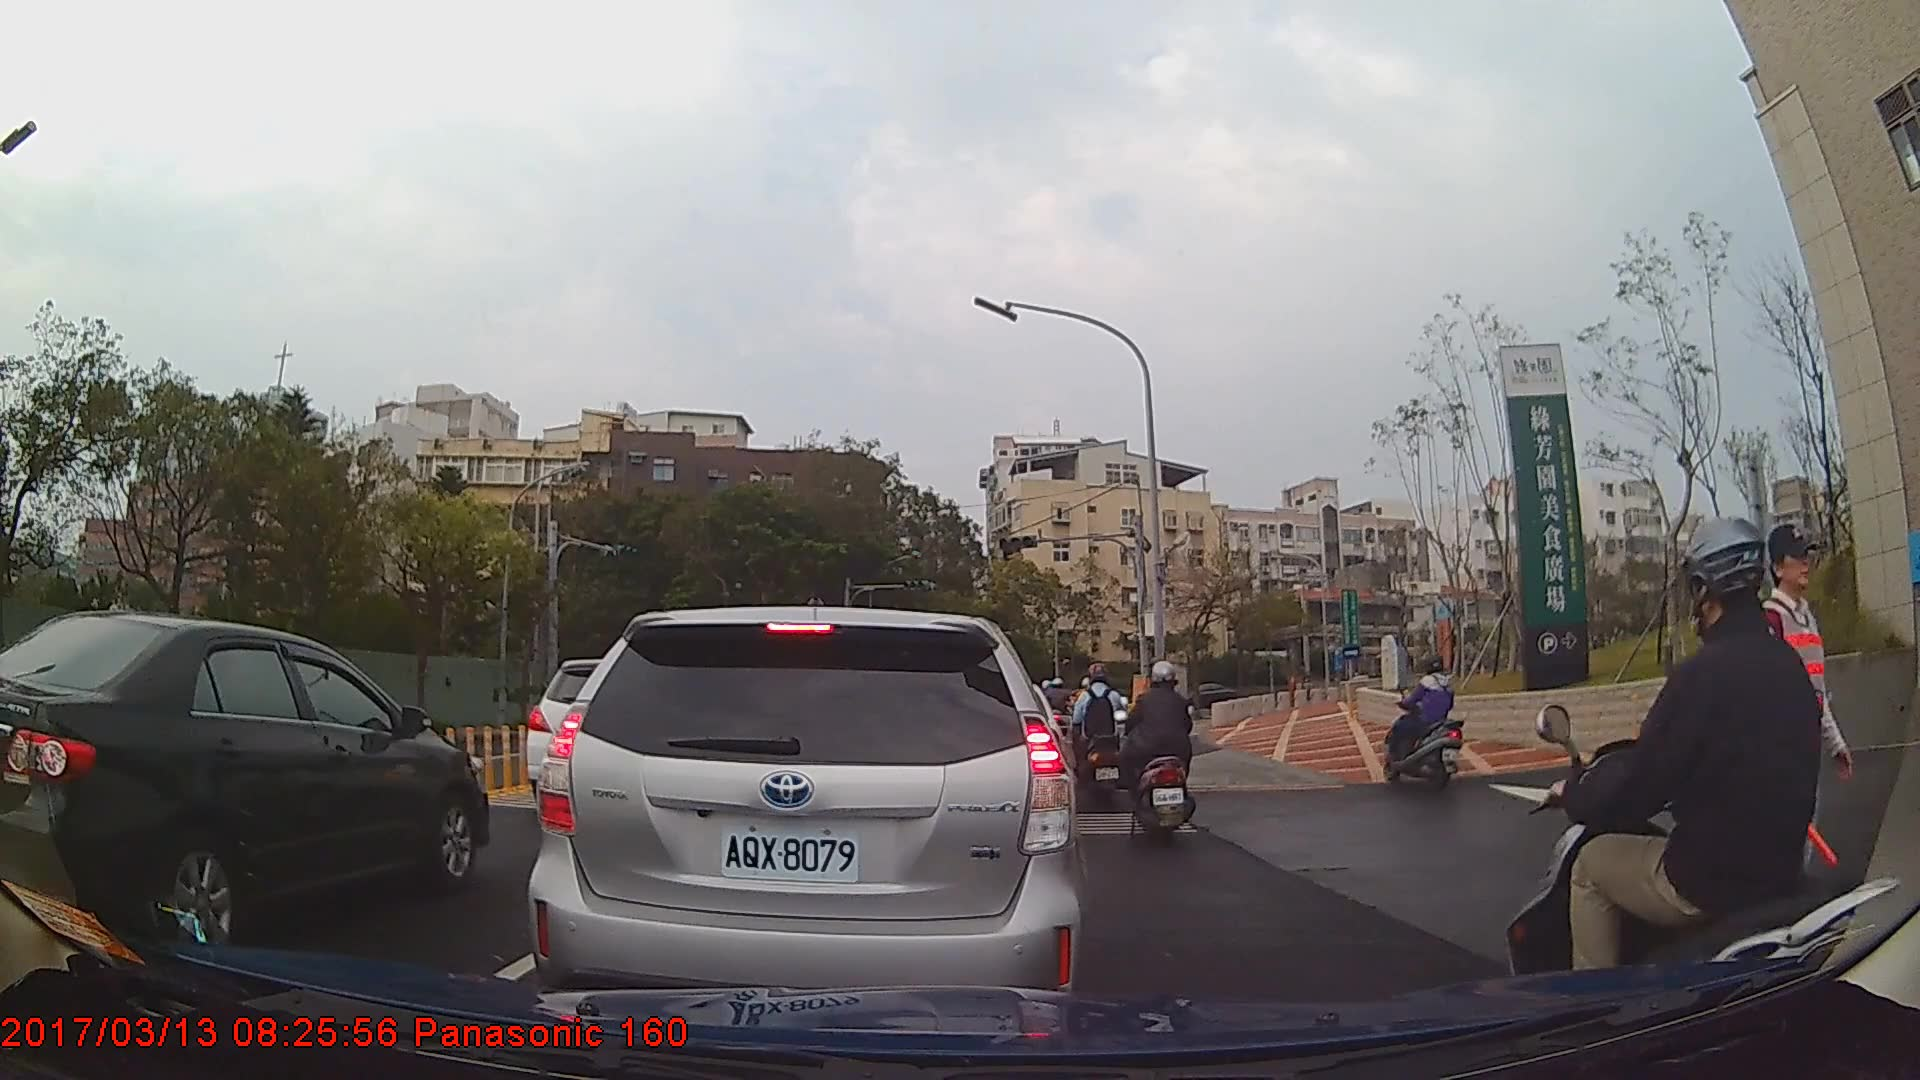rider: (1493, 514, 1911, 1080), (1119, 658, 1198, 841), (1380, 651, 1469, 792), (1070, 660, 1130, 810)
vehicle: (527, 603, 1080, 1033), (0, 610, 490, 955), (1168, 679, 1236, 713)
